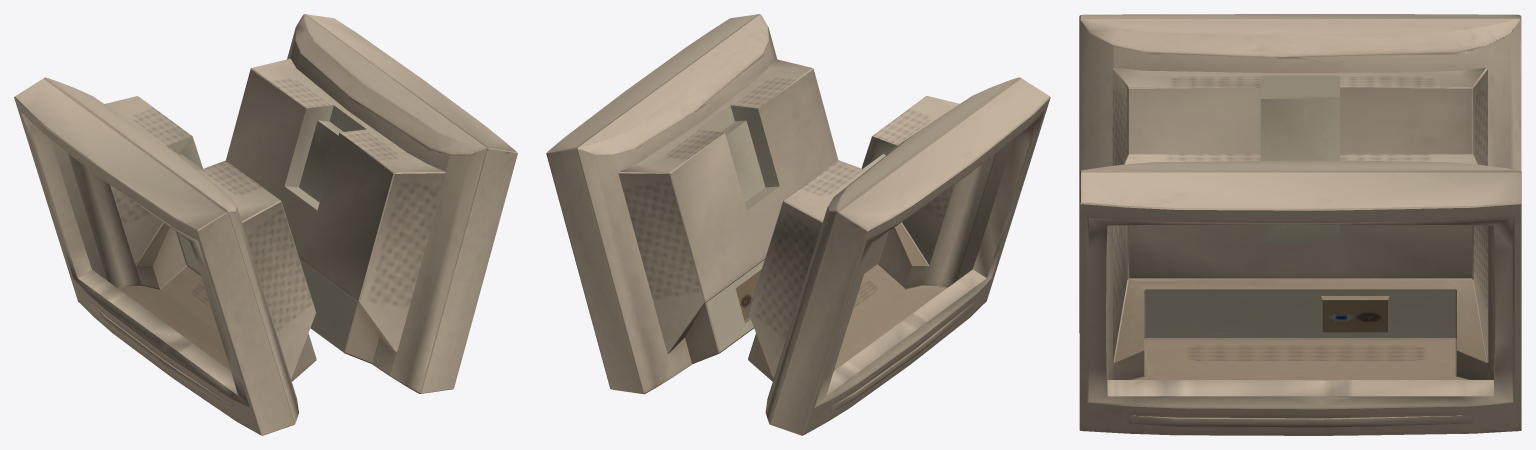
The model's file is Monitor.fbx.
3 renders of one model, left to right at view 1: azimuth 30°, elevation 25°; view 2: azimuth 150°, elevation 25°; view 3: azimuth 270°, elevation 25°, orthographic. The views are drawn at different scales.
Parts seen in each view (by area): view 1: bake2.001; view 2: bake2.001; view 3: bake2.001.
Boxes of the visible parts, x1=… form: bake2.001: x1=14, y1=14, x2=517, y2=435; bake2.001: x1=546, y1=14, x2=1050, y2=435; bake2.001: x1=1079, y1=14, x2=1521, y2=435.
Size of the model in its own units: 192 by 129 by 183.
